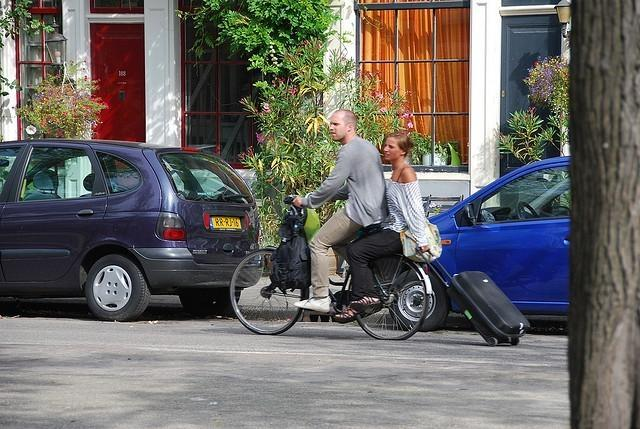bicycle: (229, 192, 433, 340)
car: (0, 142, 260, 319), (428, 154, 572, 316)
